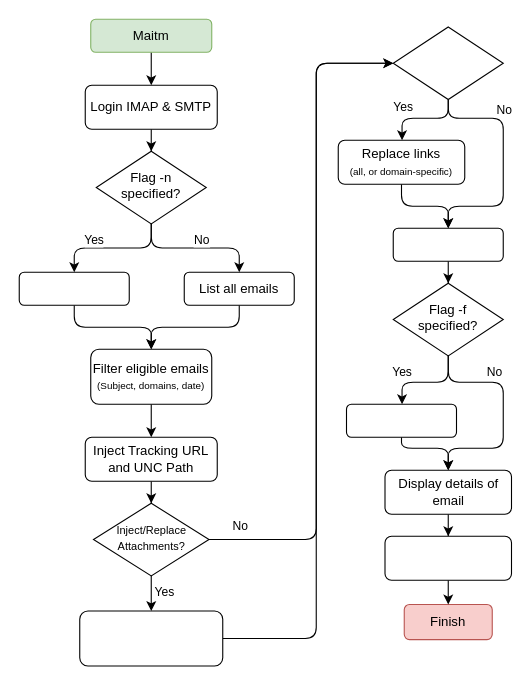
Image size: 531x685. Some labels were removed from this diagram. The centre of each missing label's shape, as x and y in pixels:
Fix typo in email/domain: point (447, 244)
Forward email: point (401, 420)
Inject/Replace legitimate attachment with attackers payload: point (151, 638)
List new emails: point (73, 288)
Notify Discord/Teams channels: point (448, 557)
Replace Links?: point (447, 63)
